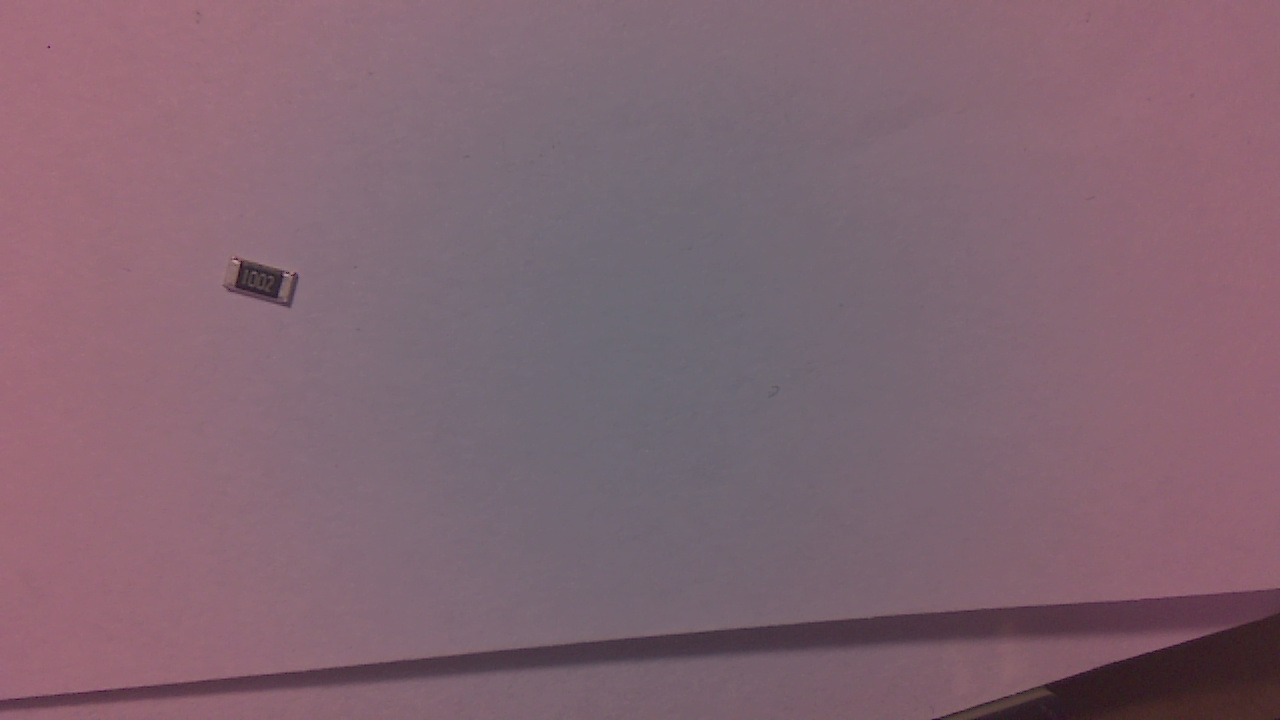Resistor: (229, 258, 305, 312)
